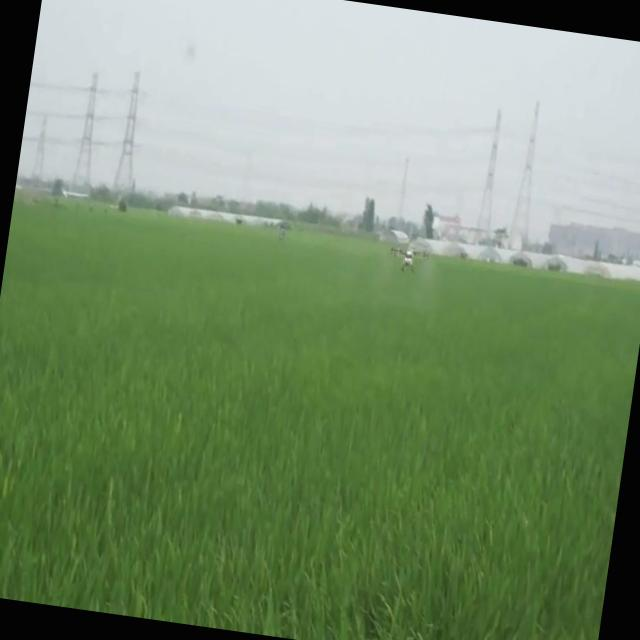drone: (384, 240, 434, 276)
